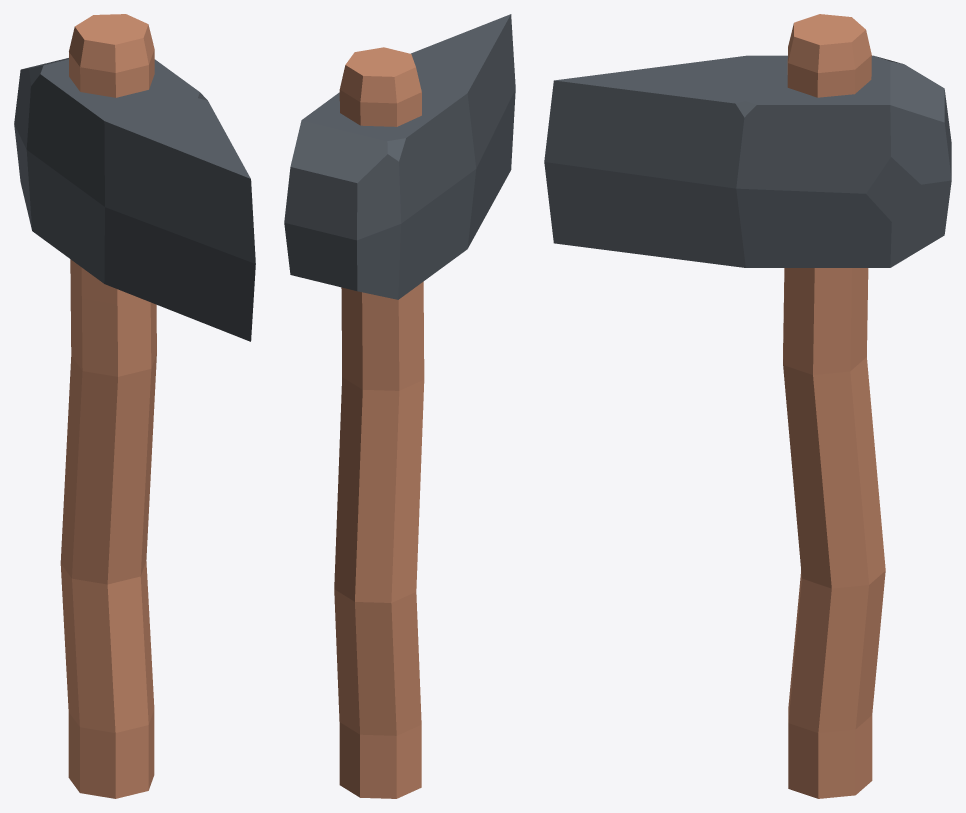
The model's file is Axe.fbx.
3 views of the same model, side by side, from view 1: azimuth 30°, elevation 25°; view 2: azimuth 150°, elevation 25°; view 3: azimuth 270°, elevation 25° (orthographic). The views are drawn at different scales.
Parts seen in each view (by area): view 1: Axe; view 2: Axe; view 3: Axe.
Boxes of the visible parts, x1,y1,x2,y2 form: Axe: (14, 14, 255, 798); Axe: (284, 14, 515, 798); Axe: (544, 14, 951, 798).
Bounding box in the file's own units: 21.7 × 134 × 66.07.
